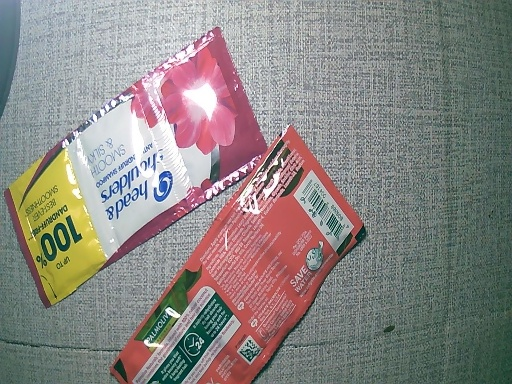plastic: (1, 36, 259, 311), (104, 124, 368, 384)
